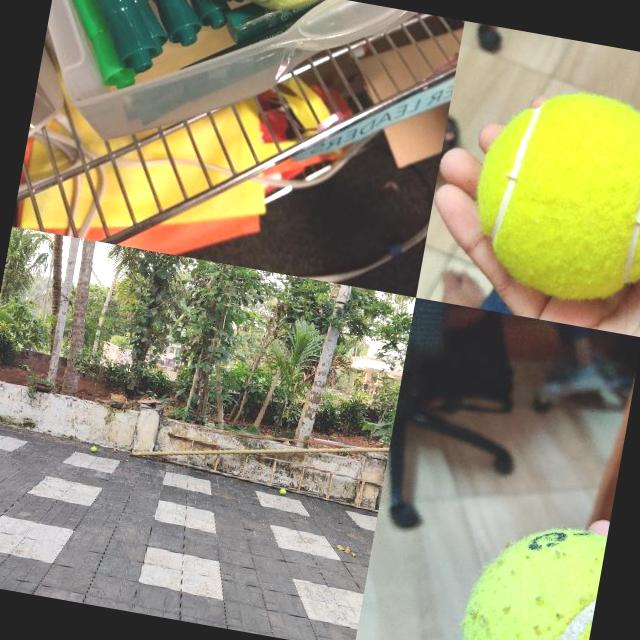Tennis Ball: (462, 78, 640, 312), (452, 509, 607, 640), (90, 445, 98, 452), (279, 488, 286, 494)
